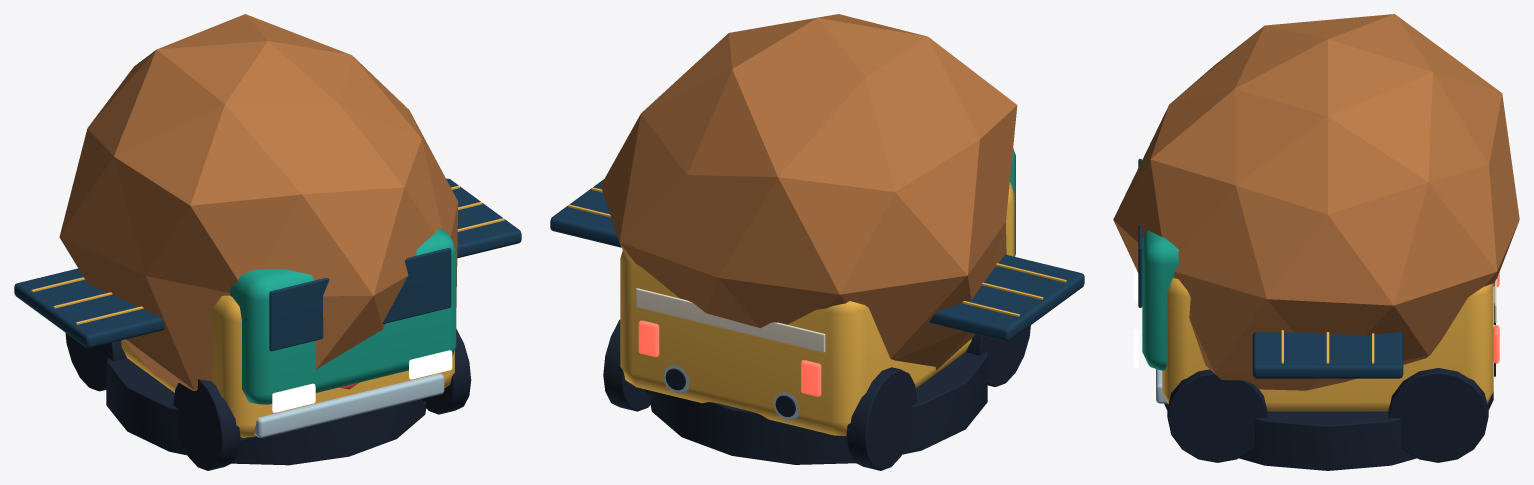
File: garage.glb
The picture shows the model from 3 angles, left to right: view 1: azimuth 30°, elevation 25°; view 2: azimuth 150°, elevation 25°; view 3: azimuth 270°, elevation 25°; orthographic projection. The views are drawn at different scales.
Parts seen in each view (by area): view 1: boulder_Copper rock, traffic, buoy_Rubber, satellite_Deep blue glass, traffic_Rubber, traffic_Deep blue glass, traffic_Amber, chassis_trail_Brushed alloy, traffic_Running lights, satellite_Amber; view 2: boulder_Copper rock, traffic_Amber, buoy_Rubber, traffic_Rubber, satellite_Deep blue glass, traffic_Ivory enamel, traffic_Brake lights, satellite_Amber, chassis_0_Rubber, chassis_0_Brushed alloy; view 3: boulder_Copper rock, traffic_Rubber, traffic_Amber, buoy_Rubber, satellite_Deep blue glass, traffic, traffic_Deep blue glass, traffic_Running lights.
Boxes of the visible parts, <box> form: boulder_Copper rock: <box>59,14,458,390</box>; traffic: <box>230,228,456,404</box>; buoy_Rubber: <box>106,357,426,465</box>; satellite_Deep blue glass: <box>14,178,521,347</box>; traffic_Rubber: <box>65,329,471,470</box>; traffic_Deep blue glass: <box>269,248,451,351</box>; traffic_Amber: <box>121,295,454,437</box>; chassis_trail_Brushed alloy: <box>254,373,444,437</box>; traffic_Running lights: <box>272,350,452,412</box>; satellite_Amber: <box>31,185,504,324</box>; boulder_Copper rock: <box>601,14,1017,370</box>; traffic_Amber: <box>620,182,1014,435</box>; buoy_Rubber: <box>650,351,987,464</box>; traffic_Rubber: <box>603,319,1030,470</box>; satellite_Deep blue glass: <box>550,179,1084,341</box>; traffic_Ivory enamel: <box>636,288,825,352</box>; traffic_Brake lights: <box>638,320,821,396</box>; satellite_Amber: <box>568,187,1066,316</box>; chassis_0_Rubber: <box>665,368,795,416</box>; chassis_0_Brushed alloy: <box>663,365,799,420</box>; boulder_Copper rock: <box>1113,14,1519,390</box>; traffic_Rubber: <box>1167,368,1488,462</box>; traffic_Amber: <box>1162,278,1493,411</box>; buoy_Rubber: <box>1164,391,1493,470</box>; satellite_Deep blue glass: <box>1252,332,1403,378</box>; traffic: <box>1142,230,1178,370</box>; traffic_Deep blue glass: <box>1138,158,1142,307</box>; traffic_Running lights: <box>1133,264,1138,368</box>.
Size of the model in its own units: 5.1 by 3.98 by 4.05.
